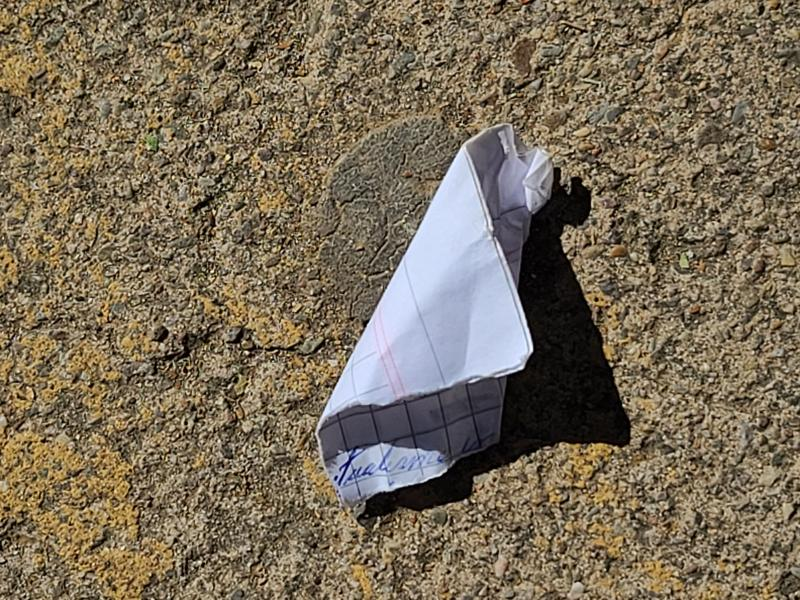papel: (315, 124, 558, 508)
